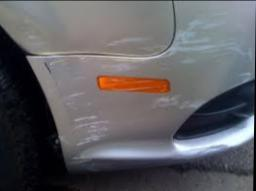Bumper: (27, 57, 240, 174)
